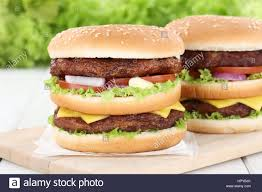hamburger: (44, 23, 189, 153), (167, 15, 262, 134)
